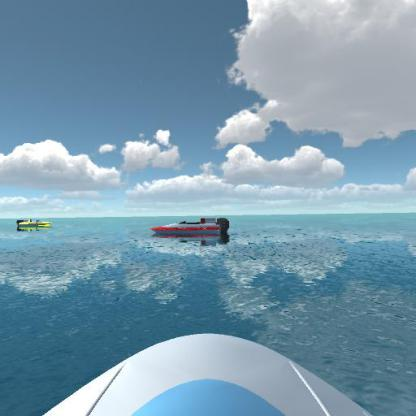usv2: (12, 213, 55, 237)
usv3: (142, 212, 232, 249)
